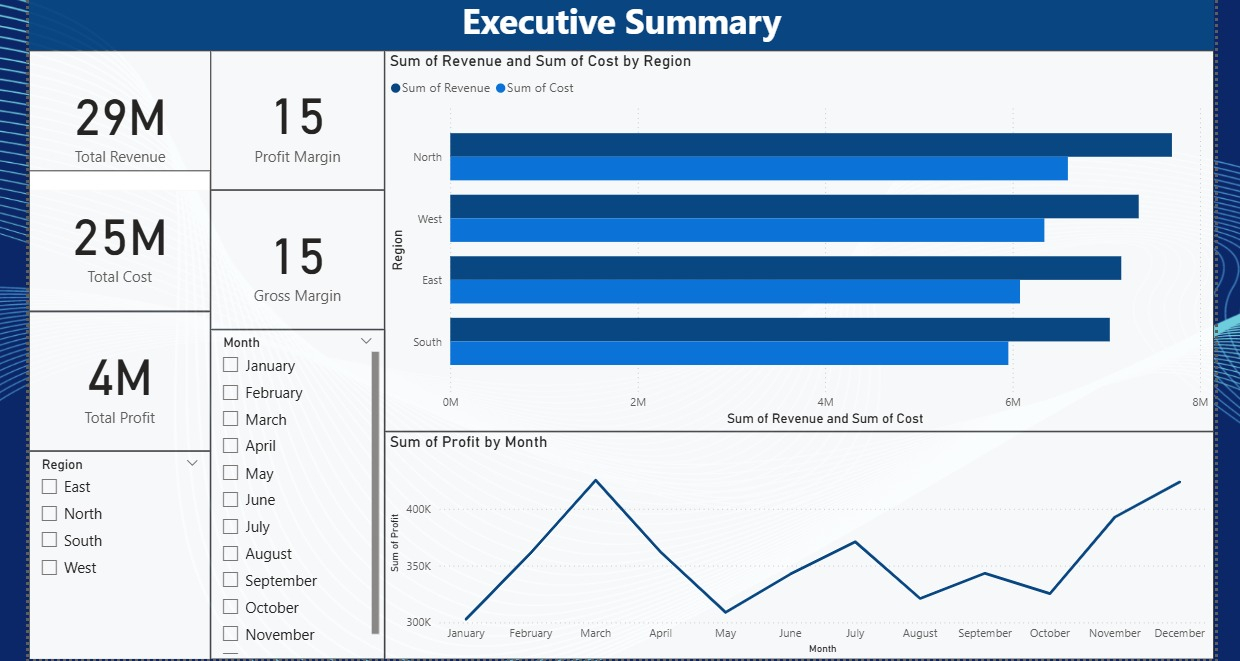

The dashboard page shown, as its layout file describes it:
{"tool":"powerbi","page":{"name":"Executive Summary","canvas":[1280,720],"ordinal":0},"visuals":[{"type":"textbox","box":[0,0,1279.4,62.4],"z":0},{"type":"card","fields":{"Values":["Sum(Table1.Revenue)"]},"box":[0,62.4,196.5,151.2],"z":1000},{"type":"card","fields":{"Values":["Sum(Table1.Cost)"]},"box":[0,192.7,195.9,152.2],"z":2000},{"type":"card","fields":{"Values":["Sum(Table1.Profit)"]},"box":[0,344.9,195.9,150.6],"z":3000},{"type":"card","fields":{"Values":["Table1.Sum of Profit divided by Sum of Revenue"]},"box":[195.9,63.1,187.8,150.6],"z":4000},{"type":"clusteredBarChart","fields":{"Category":["Table1.Region"],"Y":["Sum(Table1.Revenue)","Sum(Table1.Cost)"]},"box":[383.8,63.1,895.4,411.3],"z":5000},{"type":"lineChart","fields":{"Y":["Sum(Table1.Profit)"],"Category":["Table1.Date.Variation.Date Hierarchy.Month"]},"box":[383.8,474.4,895.4,246.1],"z":6000},{"type":"card","fields":{"Values":["Table1.Gross Margin"]},"box":[195.9,213.7,187.8,150.6],"z":7000},{"type":"slicer","fields":{"Values":["Table1.Date.Variation.Date Hierarchy.Month"]},"box":[195.9,364.3,187.8,356.2],"z":8000},{"type":"slicer","fields":{"Values":["Table1.Region"]},"box":[0,495.5,195.9,225.1],"z":9000}]}

Visuals, with their boxes in screenshot pixels (x1, y1, x2, y2):
textbox: [23,0,1225,49]
card - Sum(Table1.Revenue): [23,49,207,191]
card - Sum(Table1.Cost): [23,171,207,315]
card - Sum(Table1.Profit): [23,315,207,456]
card - Table1.Sum of Profit divided by Sum of Revenue: [207,50,383,191]
clusteredBarChart - Table1.Region x Sum(Table1.Revenue): [383,50,1225,436]
lineChart - Sum(Table1.Profit) x Table1.Date.Variation.Date Hierarchy.Month: [383,436,1225,660]
card - Table1.Gross Margin: [207,191,383,333]
slicer - Table1.Date.Variation.Date Hierarchy.Month: [207,333,383,660]
slicer - Table1.Region: [23,456,207,660]
